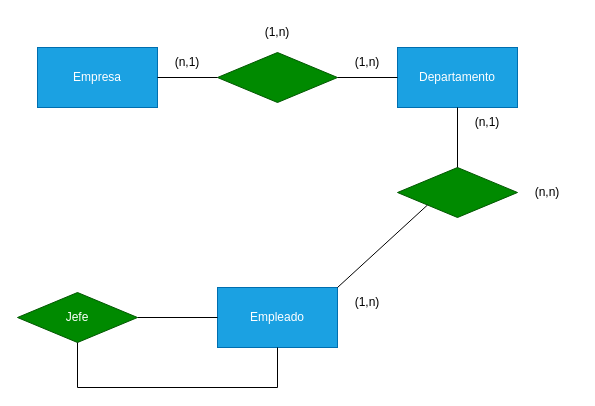
This 595x406 diagram has some shape labels left out. The centre of each missing label's shape, as x and y in pixels:
"Se divide en" belongs at [277,77].
"Tiene" belongs at [457,192].
